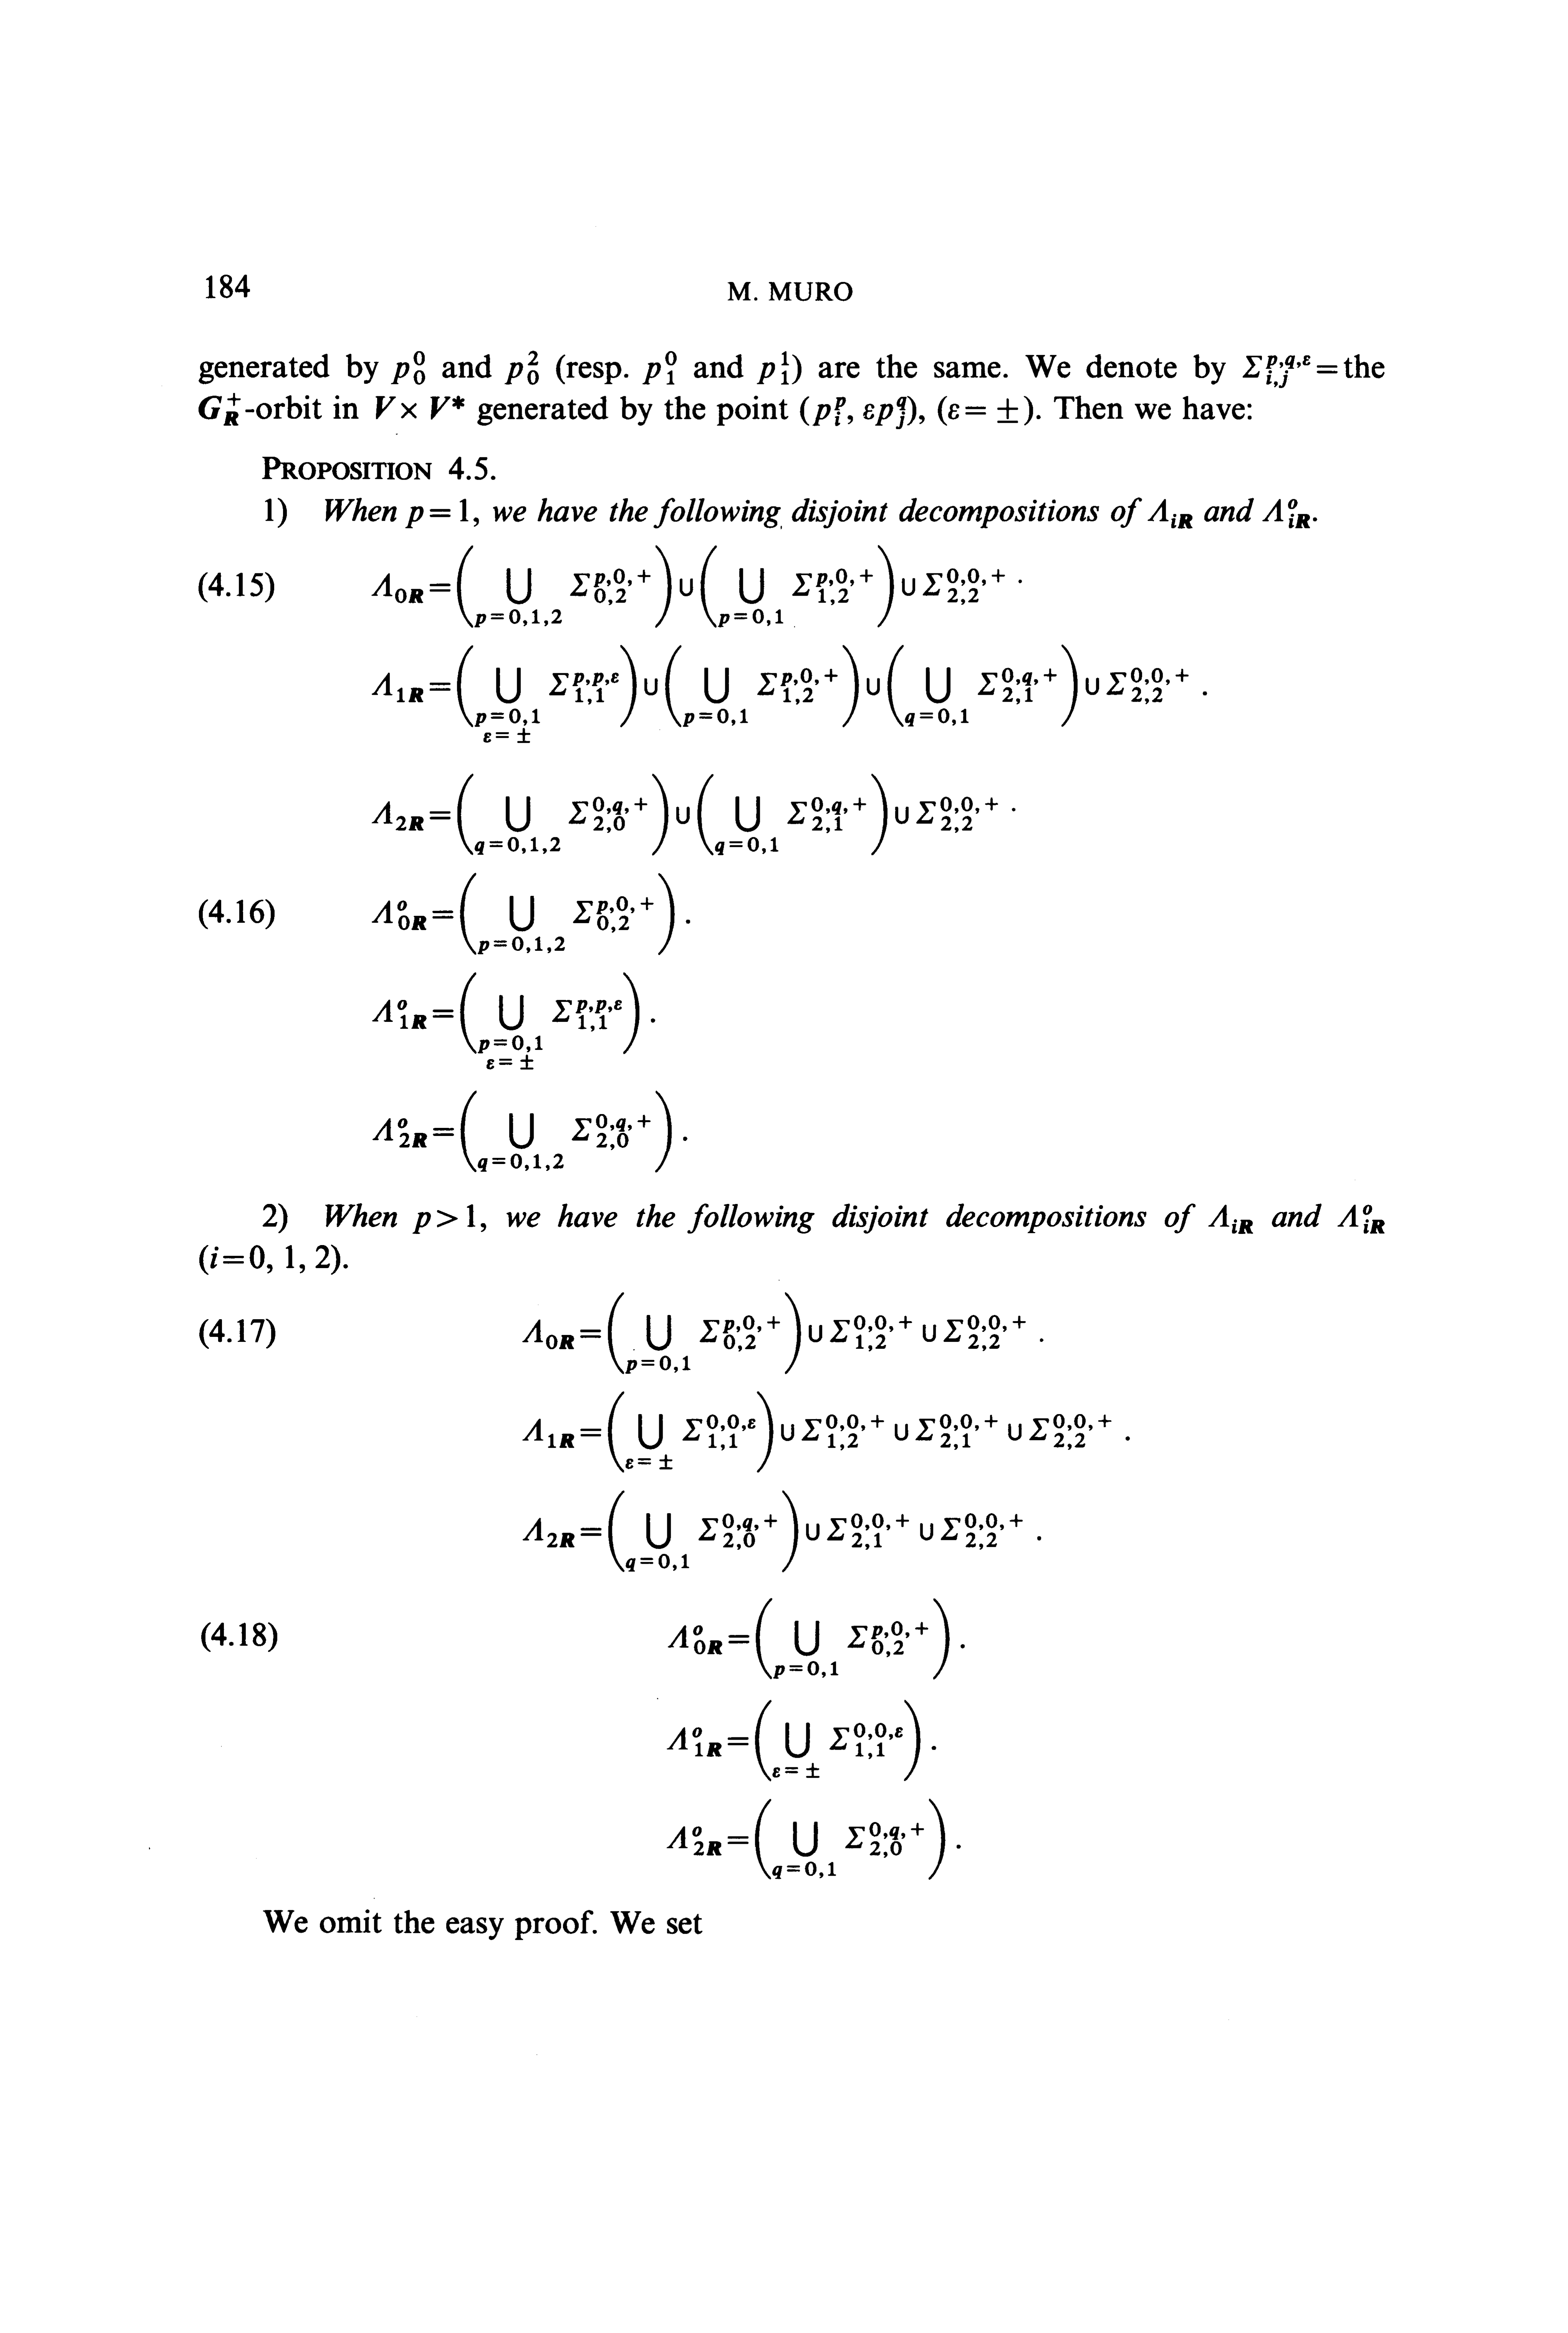maths: (371, 644, 1188, 742), (371, 544, 1004, 628), (521, 1391, 1111, 1472), (521, 1292, 1025, 1374), (523, 1491, 1022, 1572), (373, 973, 639, 1069), (373, 1090, 672, 1173), (371, 873, 674, 954), (668, 1598, 950, 1678), (667, 1799, 945, 1880), (667, 1699, 921, 1782), (199, 1244, 339, 1274), (800, 396, 915, 429), (1243, 355, 1337, 387), (938, 396, 1032, 425), (376, 396, 464, 418), (413, 1204, 474, 1234), (406, 499, 467, 527), (1337, 1204, 1384, 1234), (198, 392, 240, 425), (1208, 1204, 1253, 1234), (1262, 499, 1309, 527), (1148, 499, 1192, 529), (504, 350, 539, 385), (390, 352, 425, 385), (642, 352, 675, 383), (756, 352, 789, 383)
